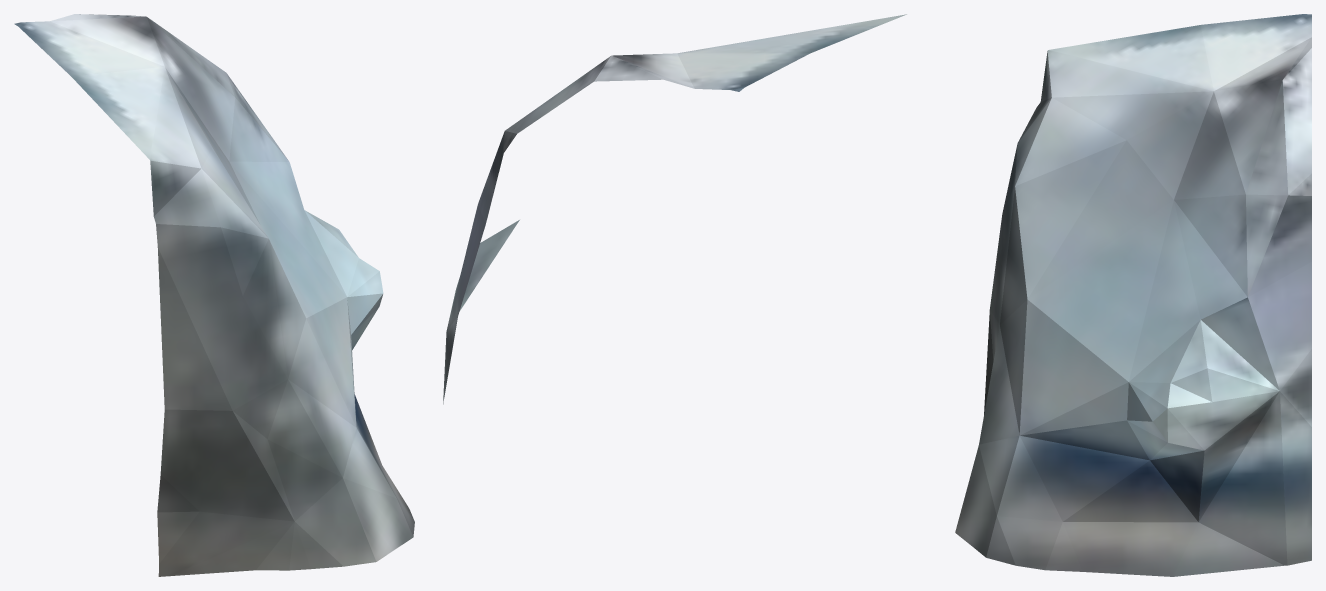
The picture shows the model from 3 angles, left to right: view 1: azimuth 30°, elevation 25°; view 2: azimuth 150°, elevation 25°; view 3: azimuth 270°, elevation 25°; orthographic projection. The views are drawn at different scales.
Bounding box in the file's own units: 0.352 × 0.5166 × 0.3847.
1 material, 1 textured.
